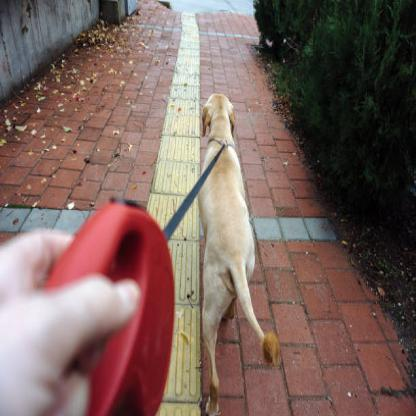podotacti: (169, 11, 198, 99)
